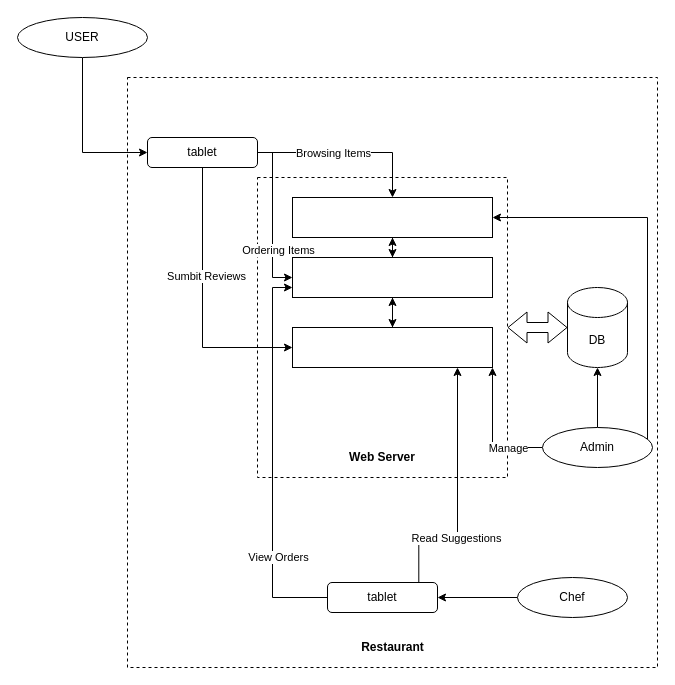
Some shapes in this 675 by 685 pixel diagram are drawn without their labels. Each missing label, with the centre of its shape:
"Food Items Manager" belongs at (392,217).
"Order Manager" belongs at (392,277).
"Reviews Manager" belongs at (392,347).
